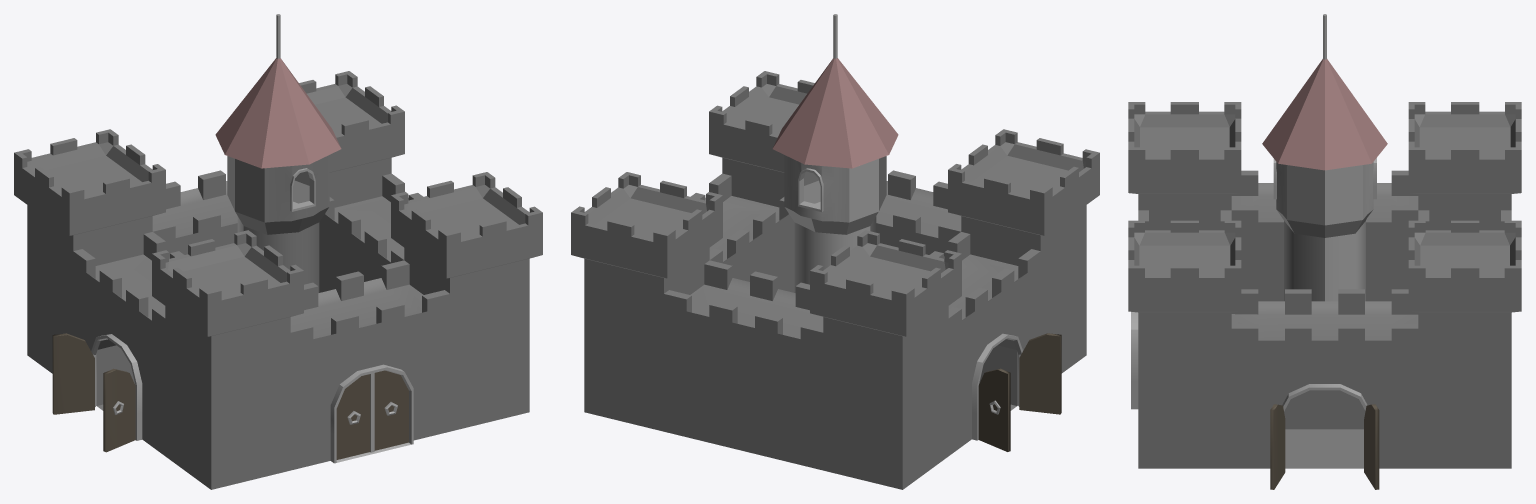
File: castle_light_05.fbx
3 views of the same model, side by side, from view 1: azimuth 30°, elevation 25°; view 2: azimuth 150°, elevation 25°; view 3: azimuth 270°, elevation 25° (orthographic).
Parts seen in each view (by area): view 1: pasted__pCube1, pCube22, pTorus5, pCube1; view 2: pasted__pCube1, pCube22, pTorus5; view 3: pasted__pCube1, pCube22, pCube11, pCube10, pCube1, polySurface1.
Boxes of the visible parts, x1,y1,x2,y2 form: pasted__pCube1: [14, 71, 542, 489]; pCube22: [215, 14, 341, 292]; pTorus5: [52, 333, 142, 452]; pCube1: [330, 364, 413, 463]; pasted__pCube1: [571, 71, 1099, 489]; pCube22: [772, 14, 898, 292]; pTorus5: [972, 333, 1061, 451]; pasted__pCube1: [1128, 102, 1521, 468]; pCube22: [1262, 14, 1387, 301]; pCube11: [1364, 404, 1379, 489]; pCube10: [1270, 404, 1285, 489]; pCube1: [1131, 312, 1138, 409]; polySurface1: [1282, 384, 1367, 411].
Size of the model in its own units: 5.05 by 4.43 by 4.21.
